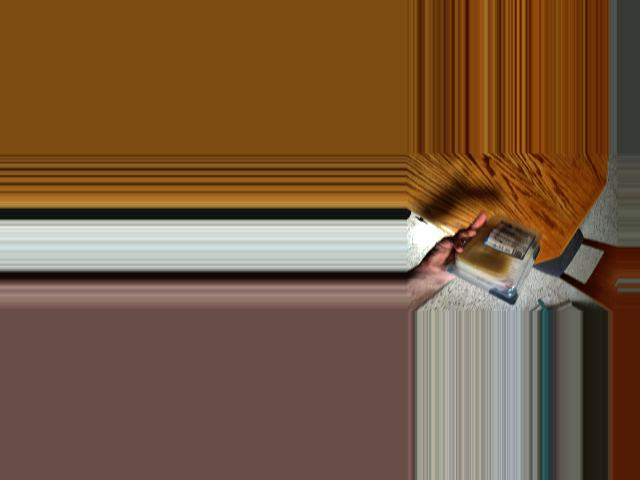cheese: (450, 217, 546, 293)
